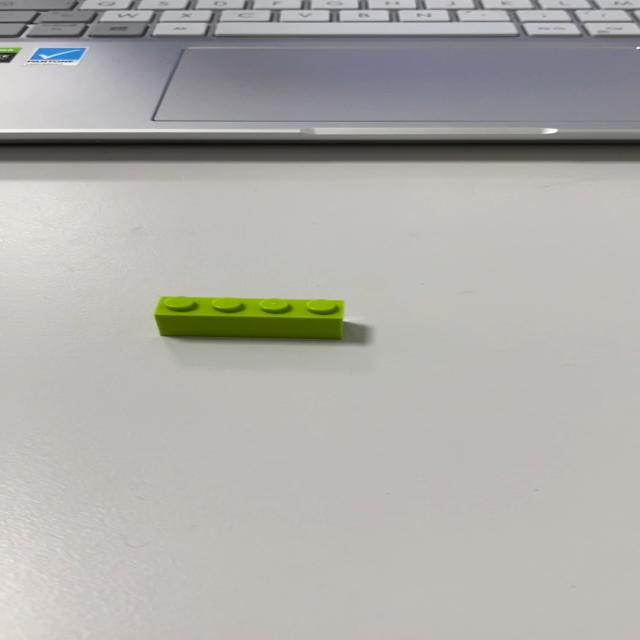C4x1x1: (152, 295, 345, 340)
